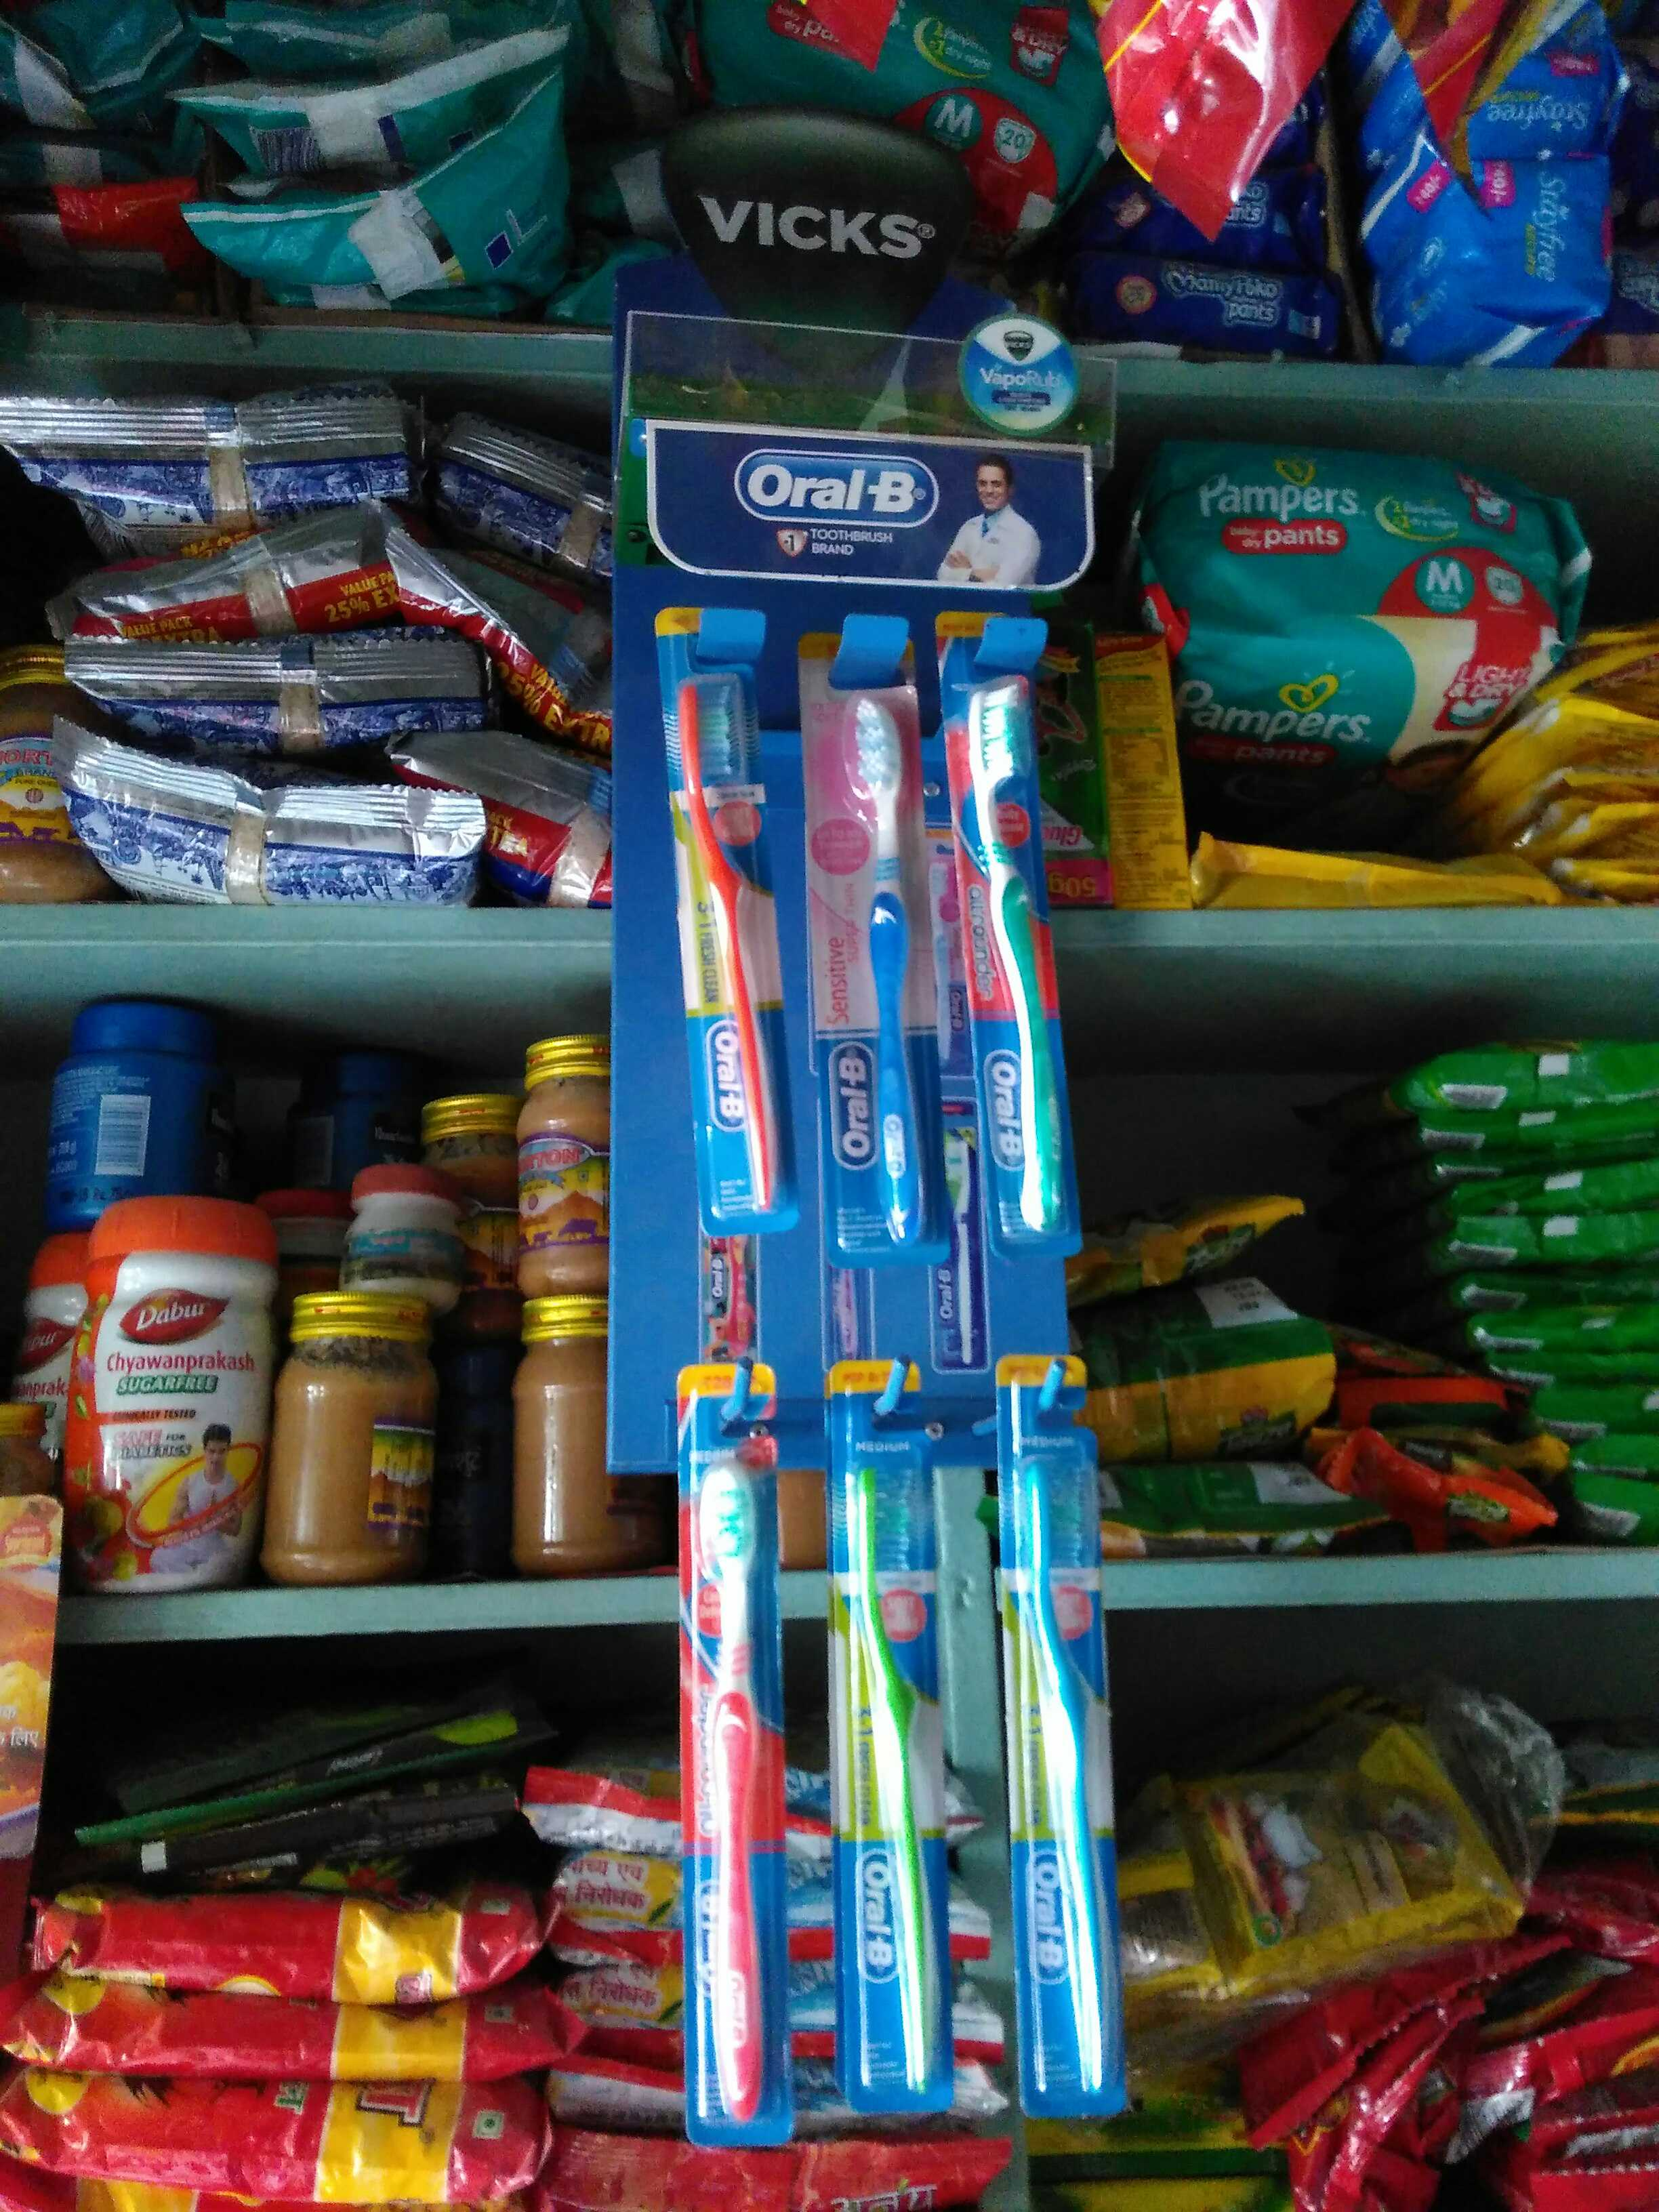pharmacy: (1131, 415, 1582, 742), (817, 1355, 965, 2116), (1000, 1334, 1131, 2116), (674, 1366, 800, 2163), (931, 596, 1084, 1231), (805, 650, 945, 1235), (685, 650, 798, 1205)
